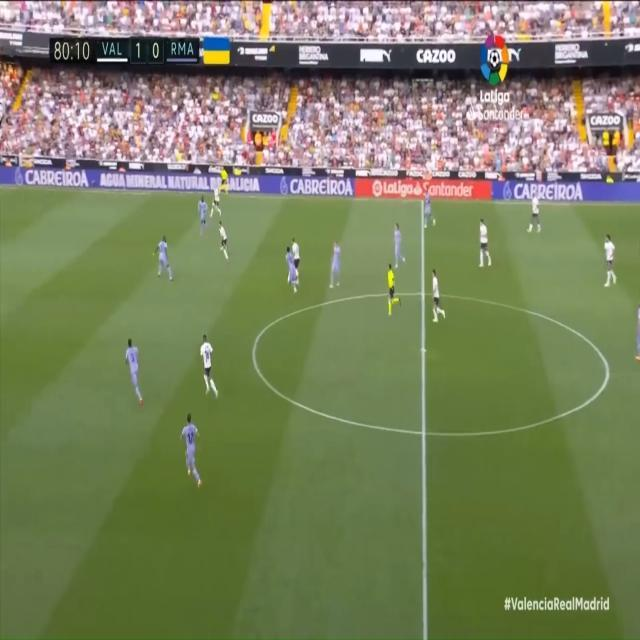player: (180, 408, 204, 491), (121, 334, 146, 409), (199, 331, 220, 404), (153, 235, 177, 283), (419, 189, 440, 238), (430, 270, 448, 322), (603, 227, 618, 287), (329, 239, 344, 291), (215, 218, 231, 265), (393, 218, 406, 272), (479, 217, 492, 271), (196, 191, 211, 235), (284, 246, 298, 293), (529, 188, 542, 236), (289, 234, 302, 273), (211, 185, 224, 222)
referee: (385, 261, 403, 320), (220, 165, 230, 202)
